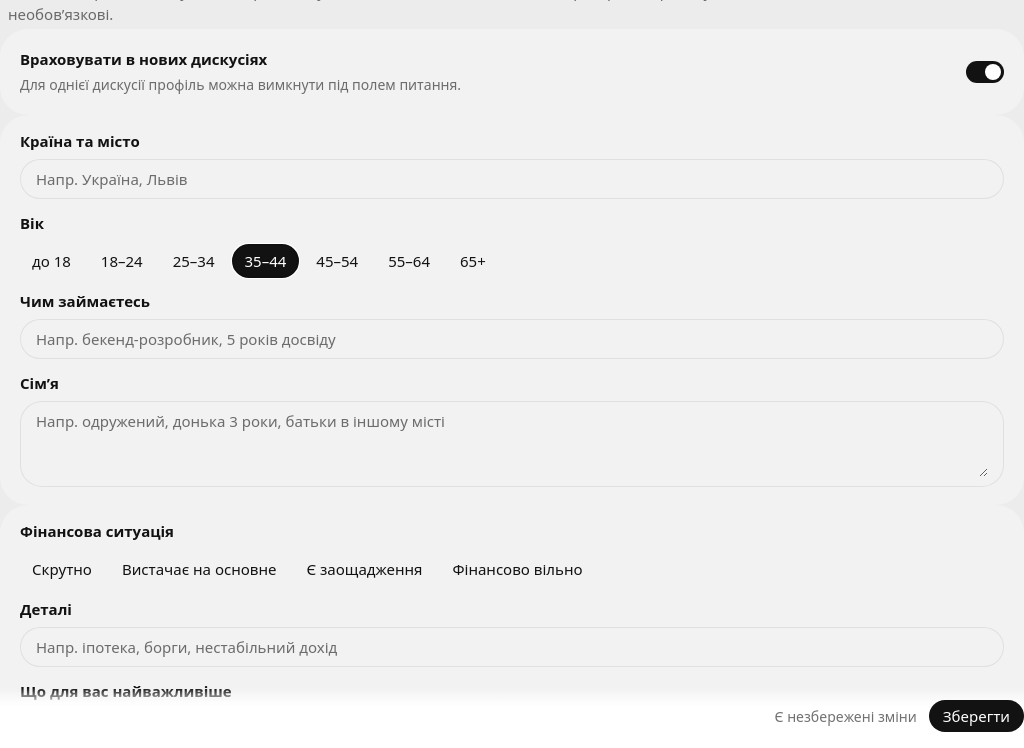
Scenario: AboutSettings › вибраний вік знімається повторним кліком, а цінностей — не більше п’яти
Earlier steps of the test are not shown.
Click the radio button labelled "35–44" at (265, 261), box [232, 245, 298, 277]
(page scrolled)
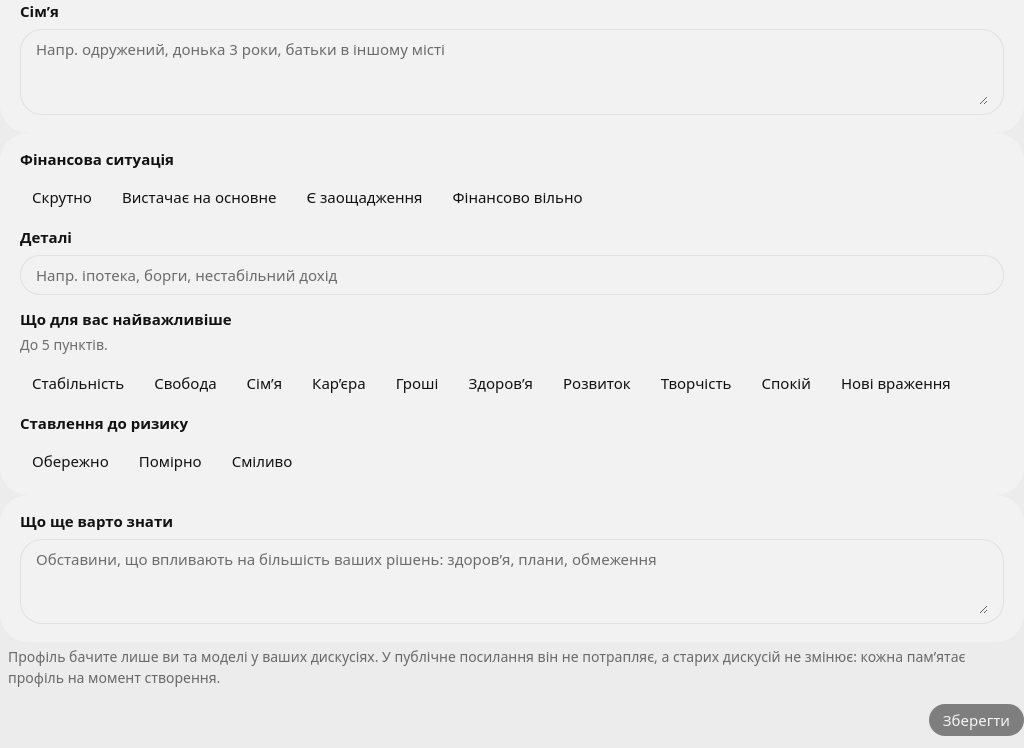
Click the checkbox labelled "Стабільність" at (78, 383), box [20, 367, 136, 399]
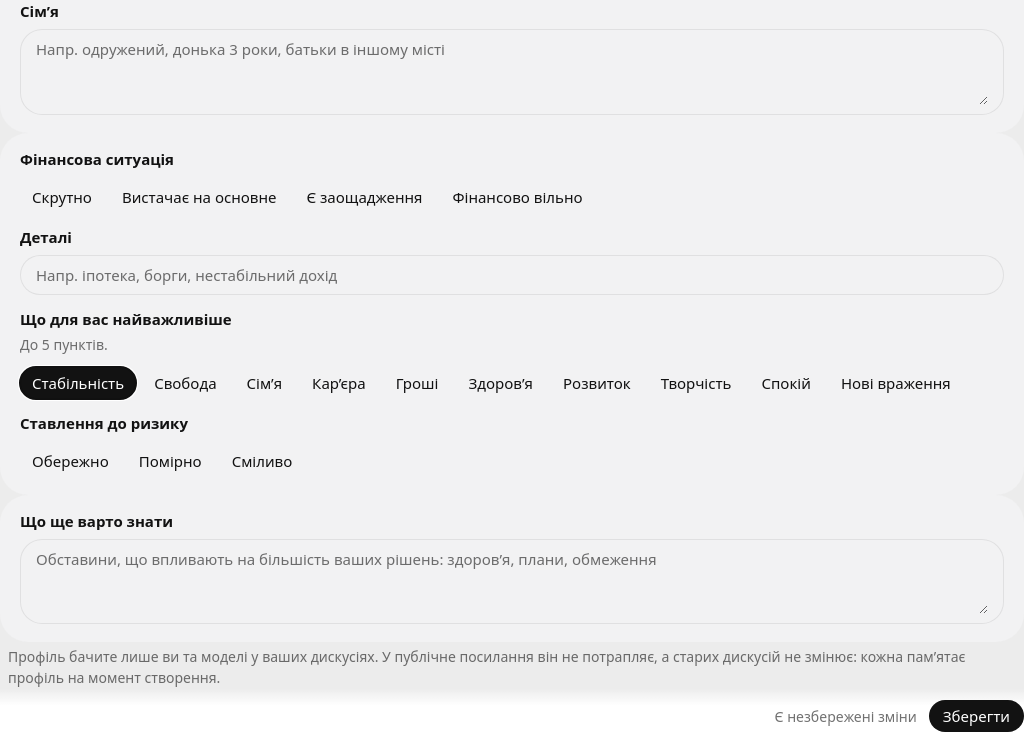
Click the checkbox labelled "Свобода" at (185, 383), box [142, 367, 229, 399]
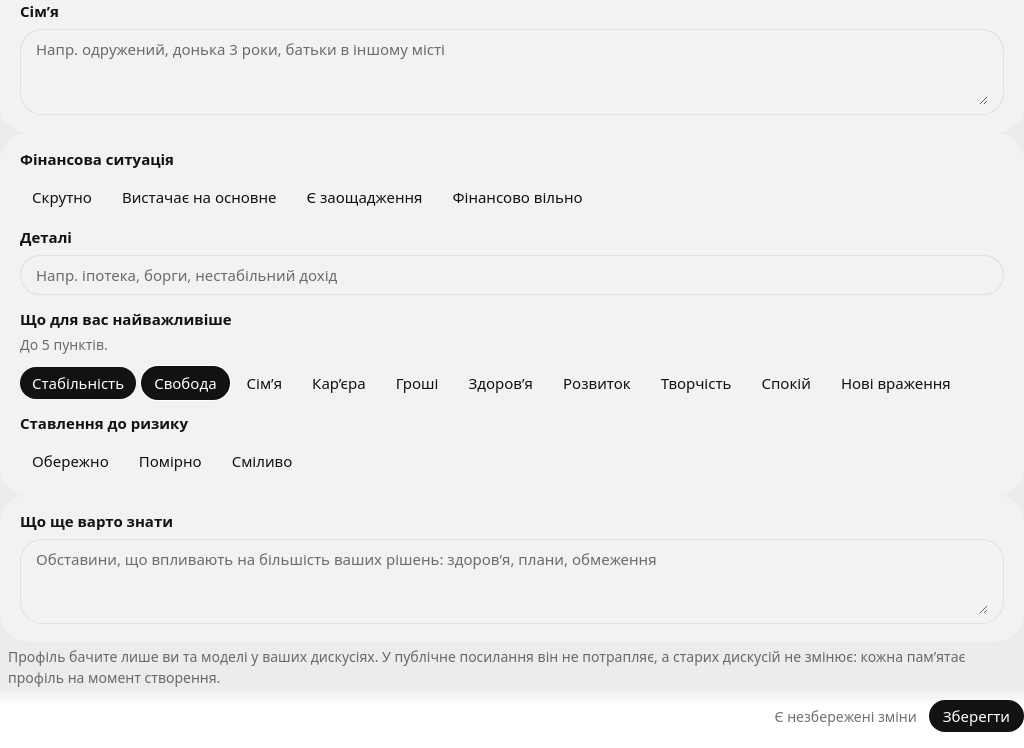
Click the checkbox labelled "Сім’я" at (264, 383), box [234, 367, 294, 399]
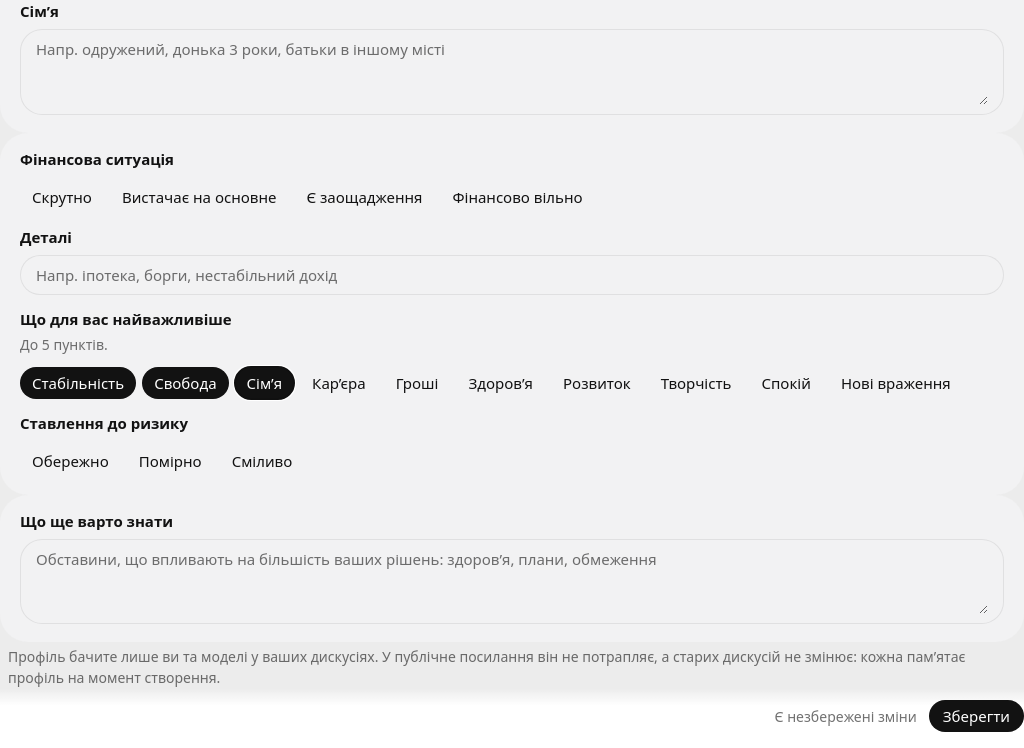
Click the checkbox labelled "Кар’єра" at (339, 383), box [300, 367, 378, 399]
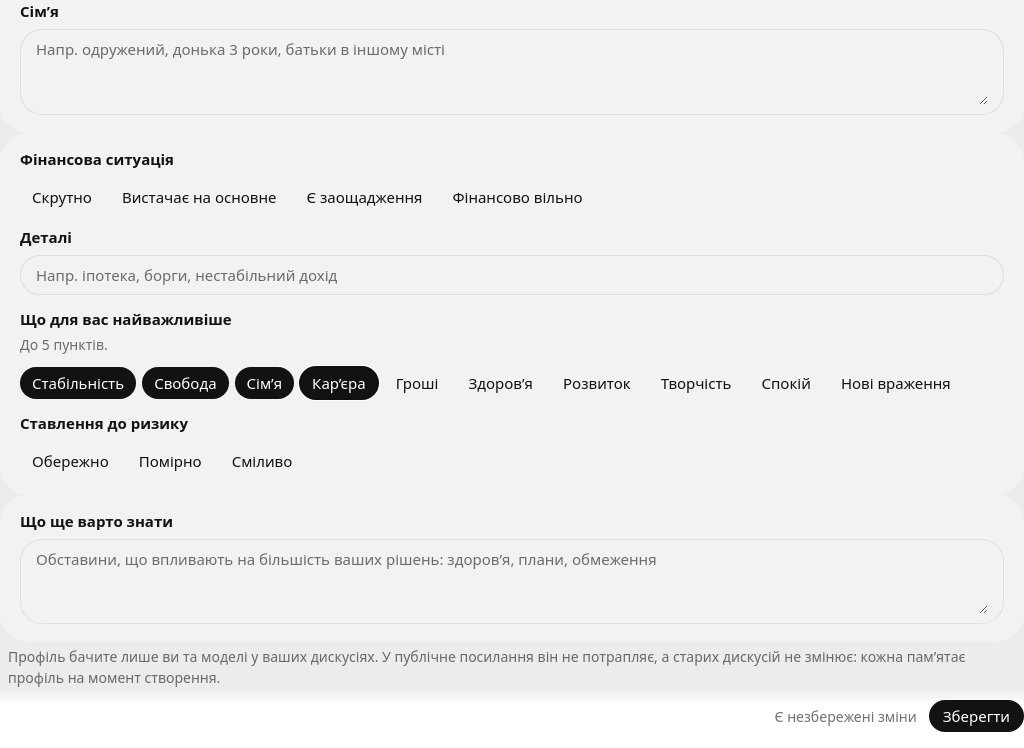
Click the checkbox labelled "Гроші" at (417, 383), box [384, 367, 450, 399]
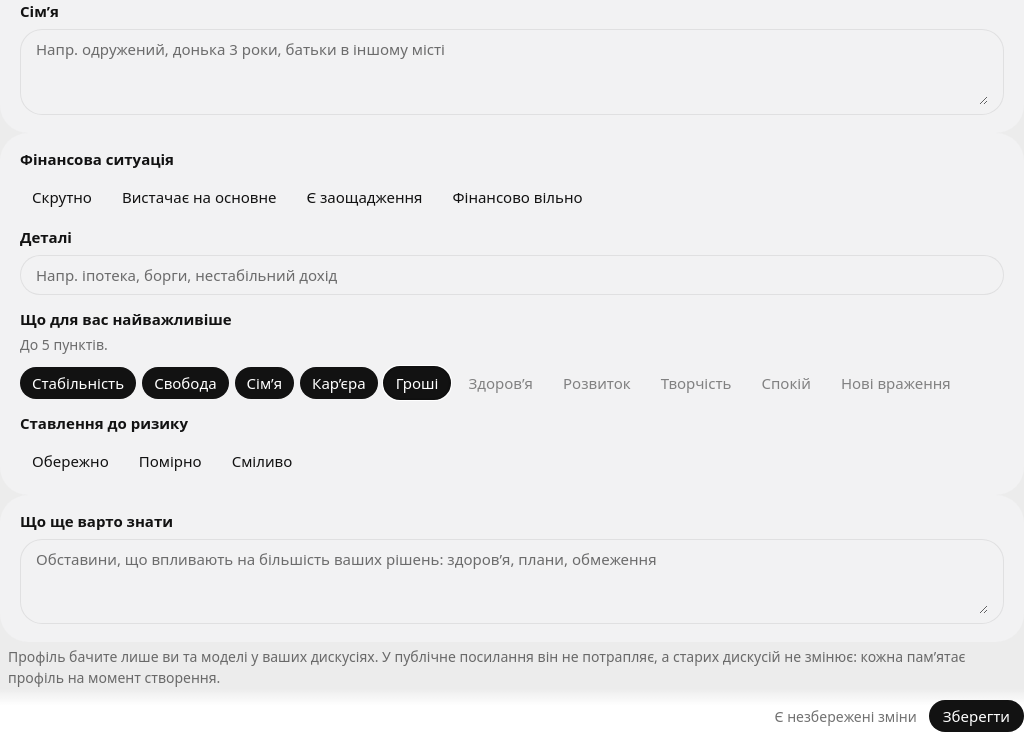
Expected: the checkbox labelled "Здоров’я" is disabled, [456, 367, 545, 399]
